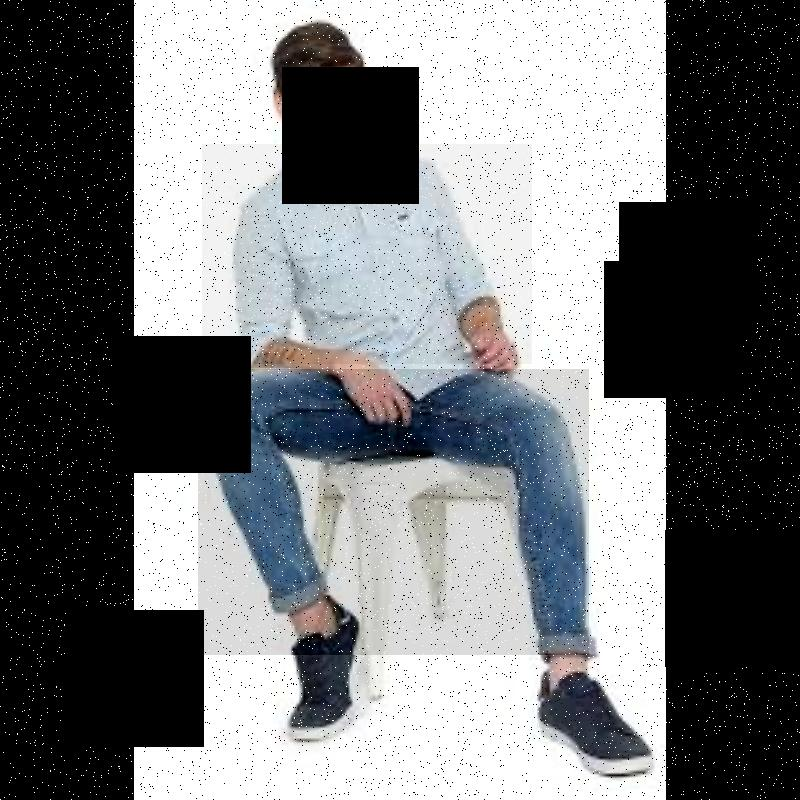Jeans: (198, 369, 589, 655)
Shirt: (202, 144, 532, 364)
